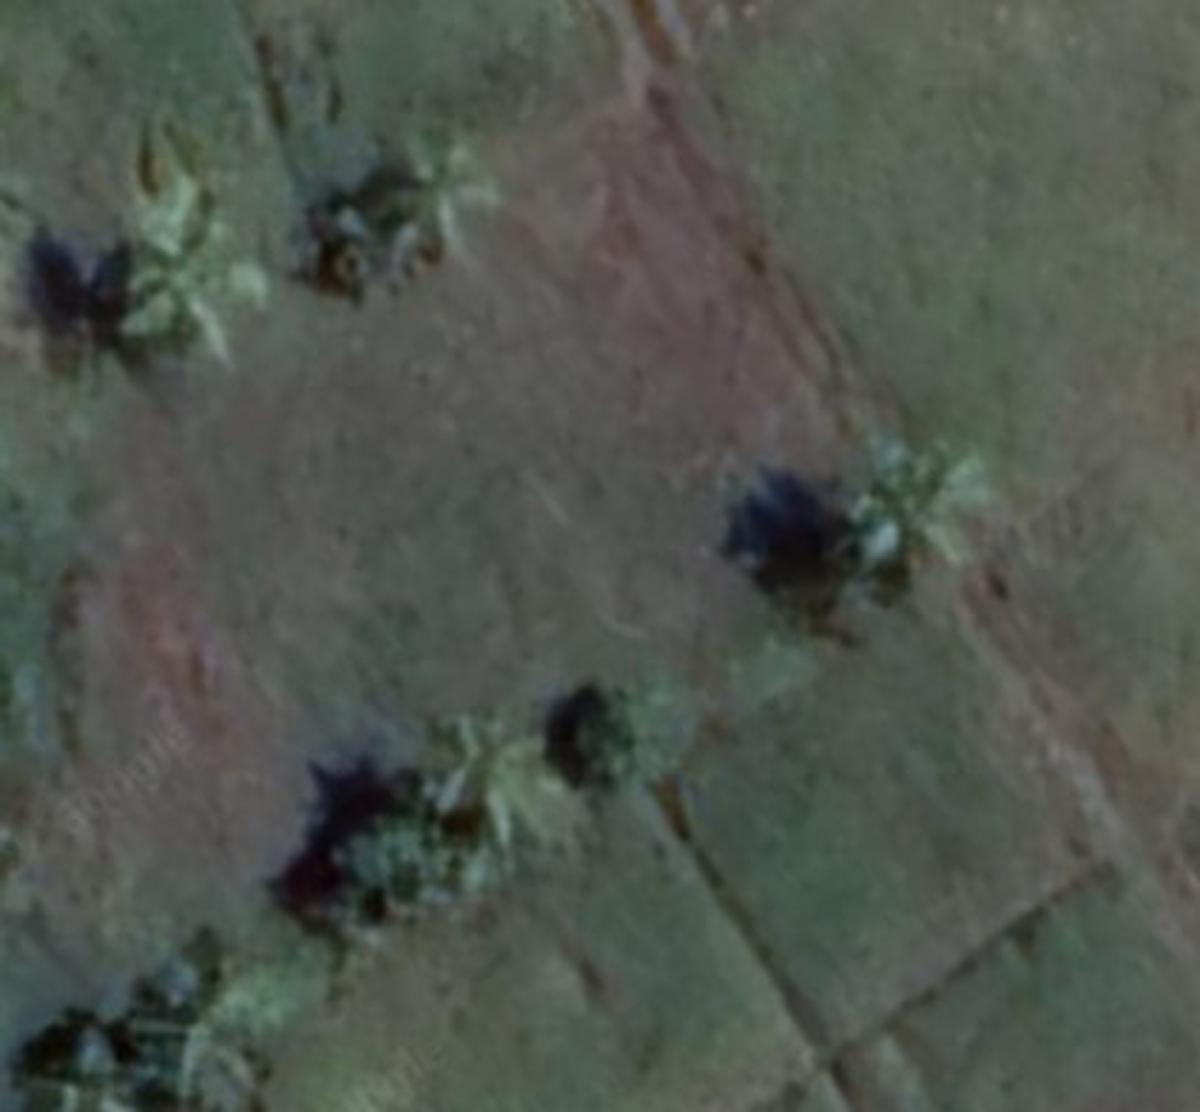coconut: (841, 443, 1003, 594), (105, 210, 264, 358), (403, 705, 554, 830), (369, 136, 486, 244)
